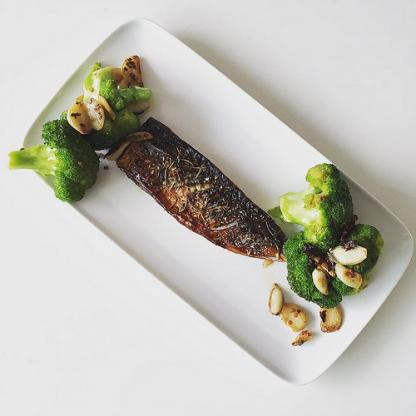Peixe: (105, 120, 297, 268)
